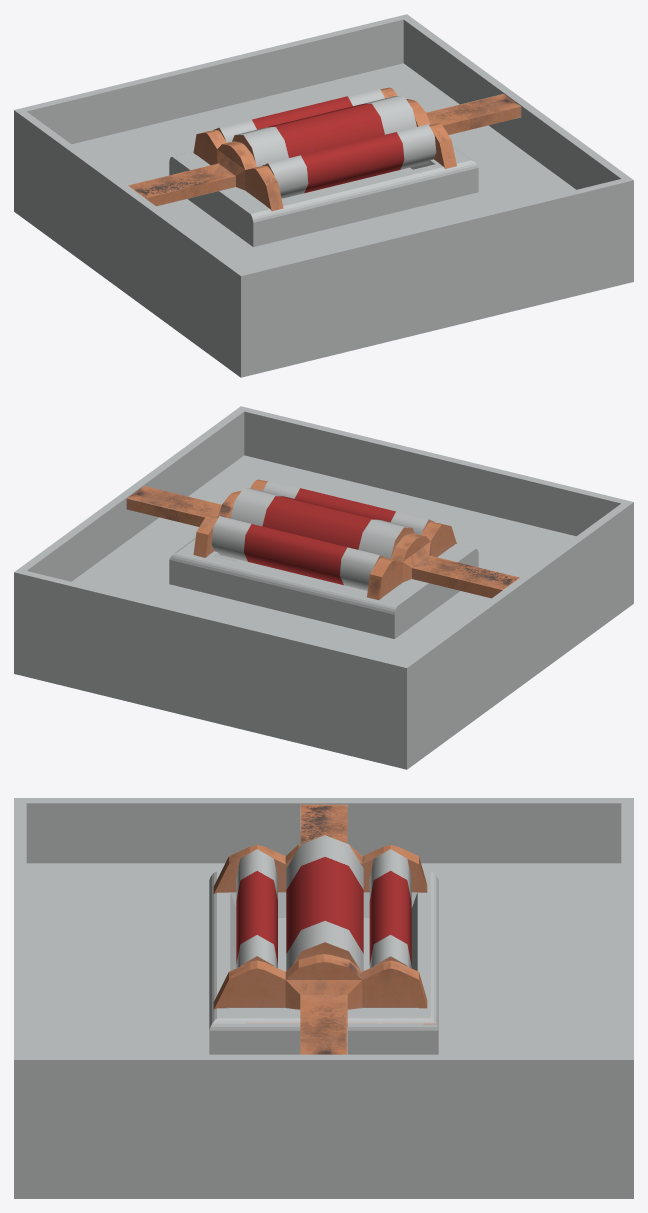
File: PuzzlePieceSquare.fbx
3 renders of one model, top to bottom at view 1: azimuth 30°, elevation 25°; view 2: azimuth 150°, elevation 25°; view 3: azimuth 270°, elevation 25°, orthographic. The views are drawn at different scales.
Visible parts, largest first — view 1: Box001; view 2: Box001; view 3: Box001.
Boxes of the visible parts, x1,y1,x2,y2 form: Box001: (14,14,633,377); Box001: (14,406,633,769); Box001: (14,798,633,1198).
Size of the model in its own units: 75.91 by 24.21 by 75.91.
Materials: 1 (1 with a texture image).
